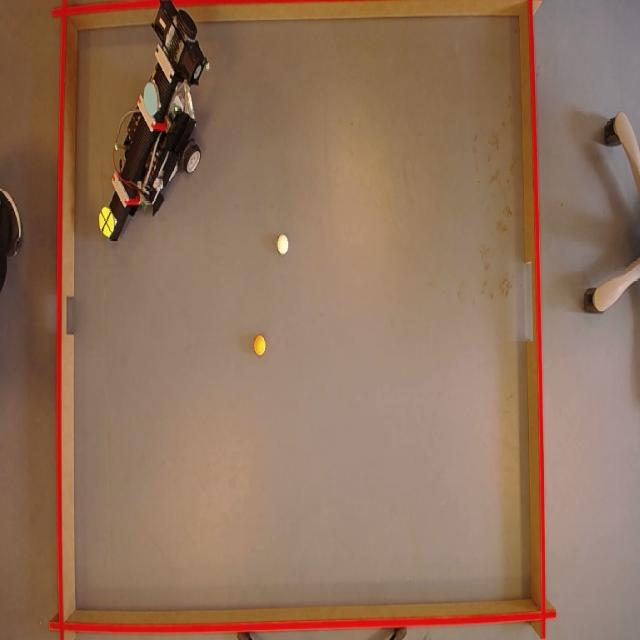orange: (254, 335, 268, 357)
robot: (103, 6, 208, 250)
robot-front: (98, 206, 115, 238)
robot-rear: (142, 84, 158, 112)
white: (276, 234, 289, 254)
